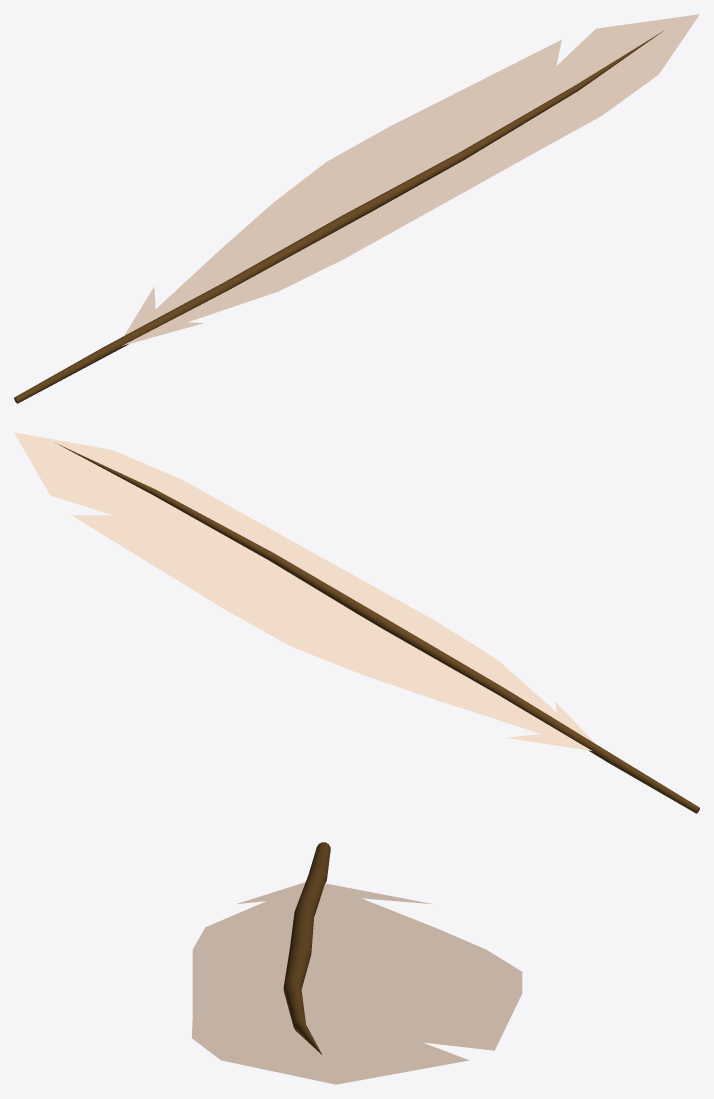
The model's file is feather.FBX.
3 renders of one model, top to bottom at view 1: azimuth 30°, elevation 25°; view 2: azimuth 150°, elevation 25°; view 3: azimuth 270°, elevation 25°, orthographic. The views are drawn at different scales.
Visible parts, largest first — view 1: Cone001; view 2: Cone001; view 3: Cone001.
Part boxes in pixels (x1,y1,x2,y2): Cone001: [14, 14, 699, 403]; Cone001: [14, 432, 699, 813]; Cone001: [191, 842, 522, 1084].
Size of the model in its own units: 0.3041 by 0.0927 by 0.0638.
